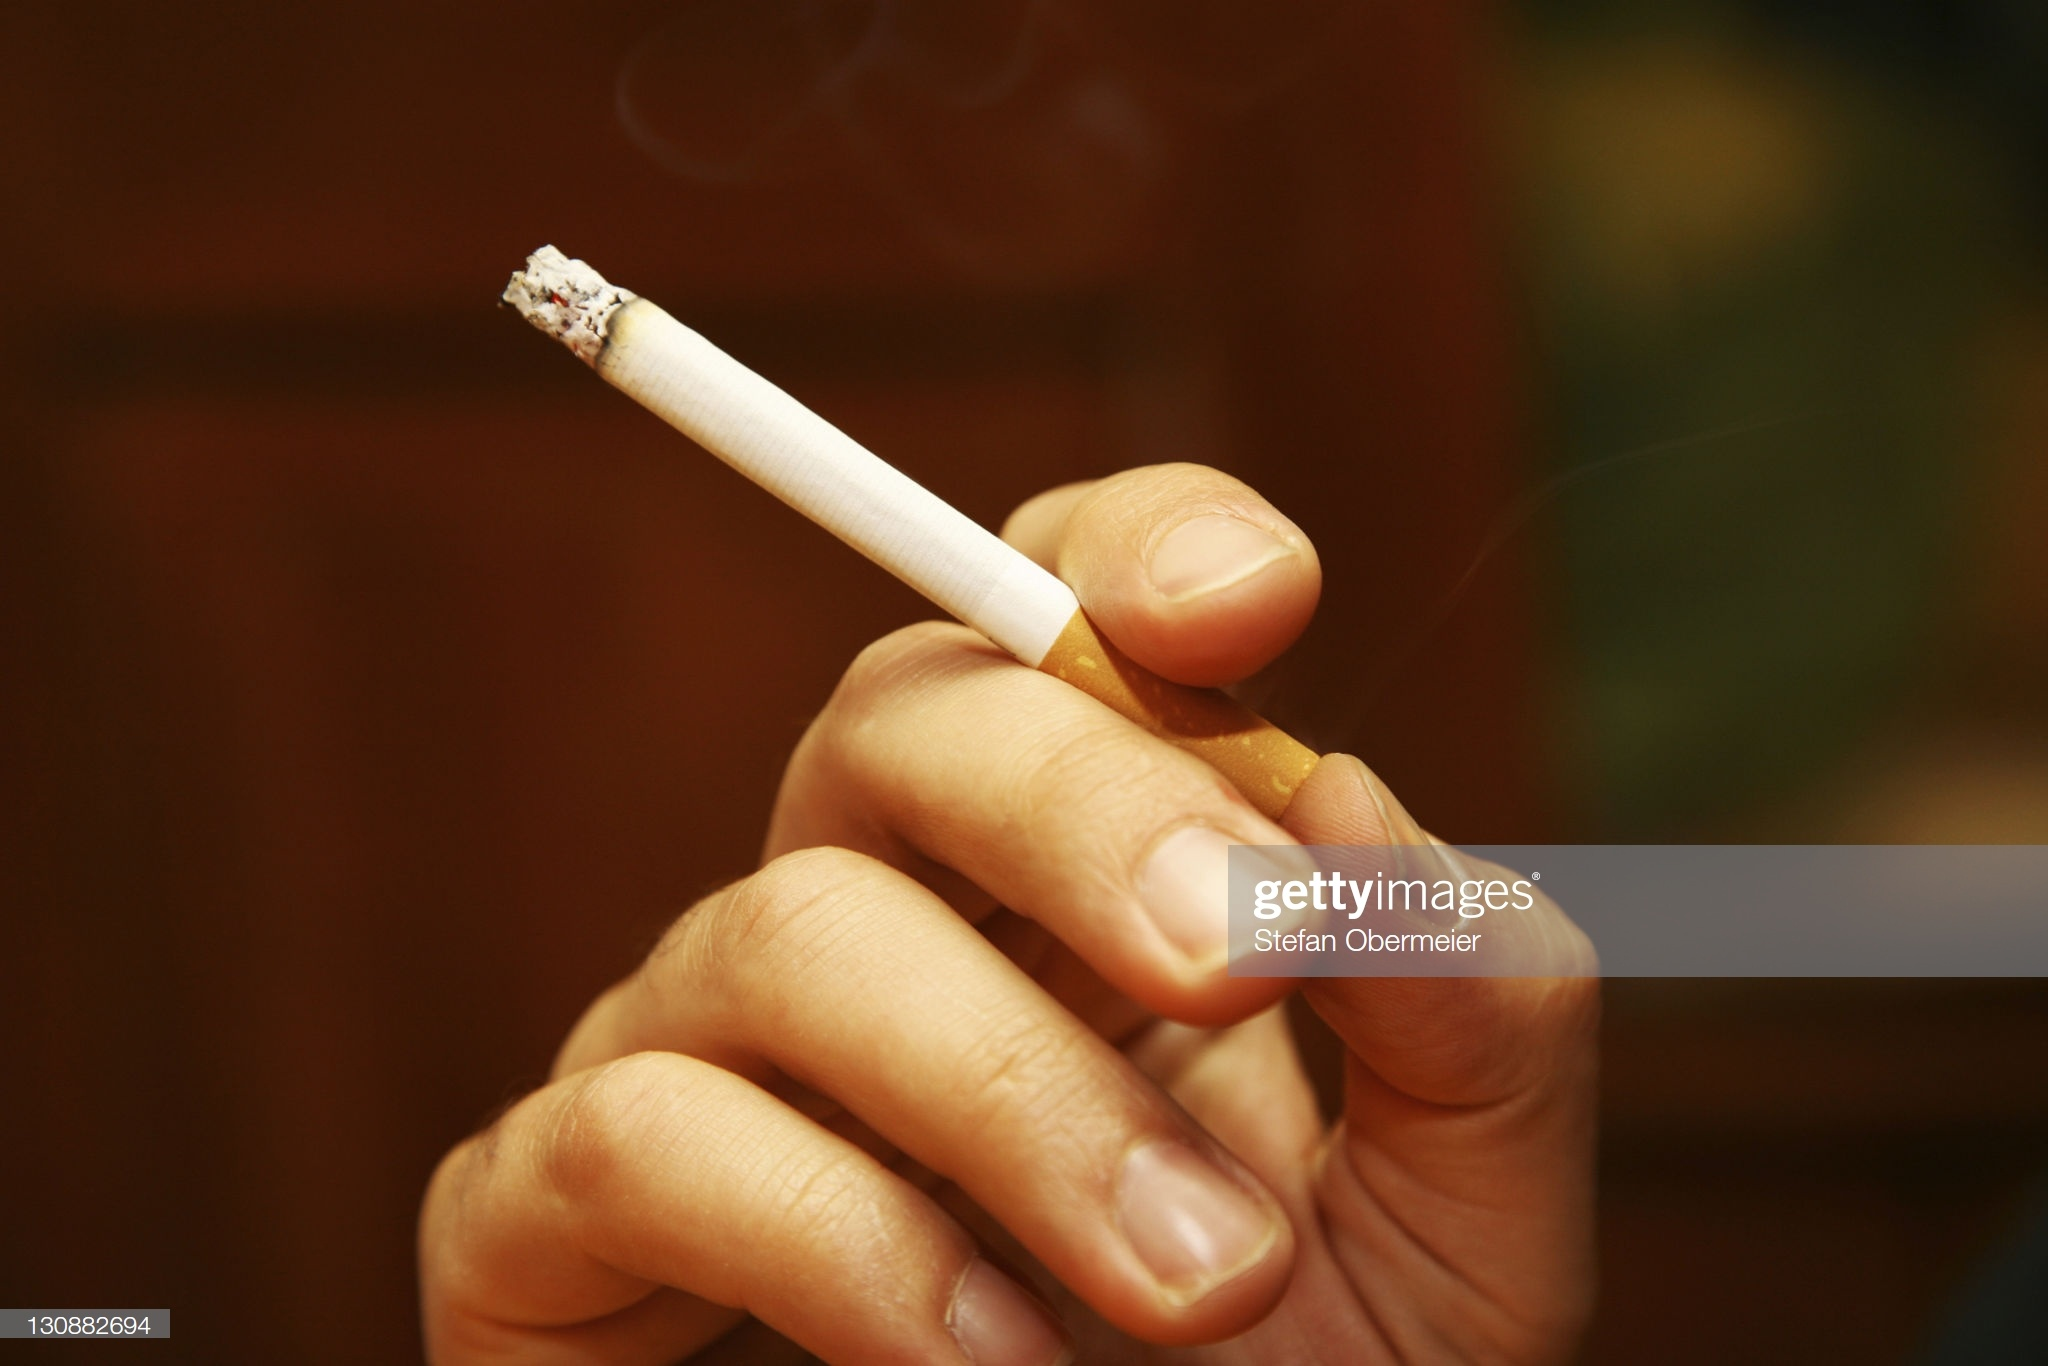sigaretta: (500, 232, 1240, 762)
